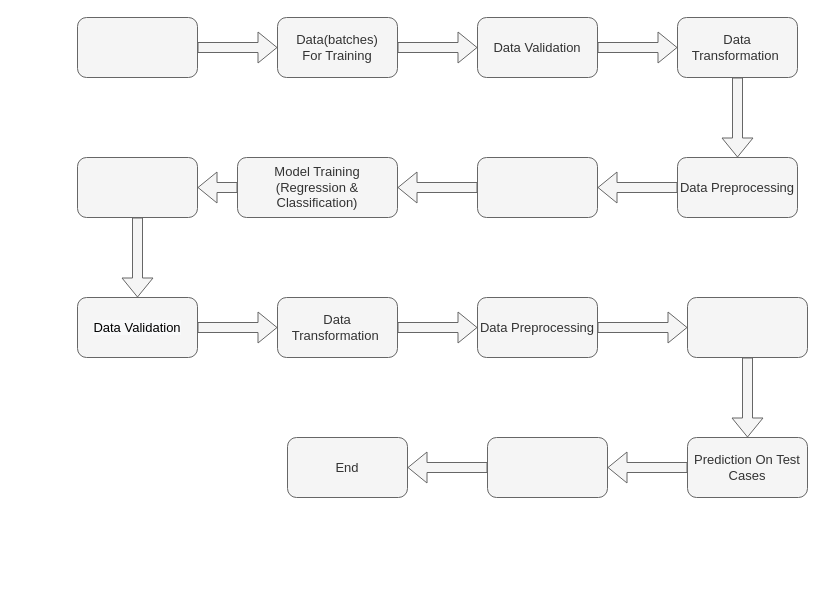
This 834x605 diagram has some shape labels left out. The shapes that lost their labels are listed below. From the top down, each one's centre as x and y in pixels, then its label:
At (x=137, y=47): "Strat".
At (x=137, y=187): "Data(batches) For Testing".
At (x=537, y=187): "Feature Selection".
At (x=747, y=327): "Model Testing".
At (x=547, y=467): "Showing Prediction".
